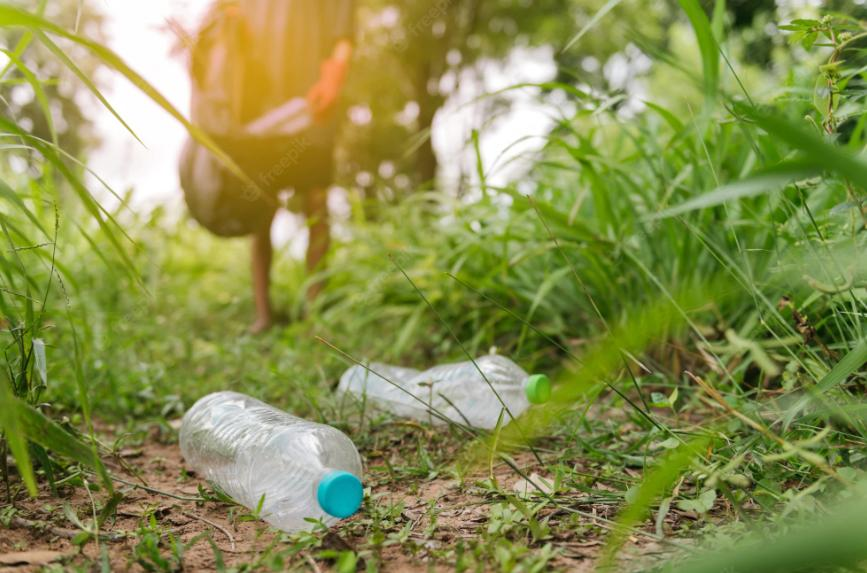bottle: (162, 376, 393, 552), (341, 386, 594, 398)
